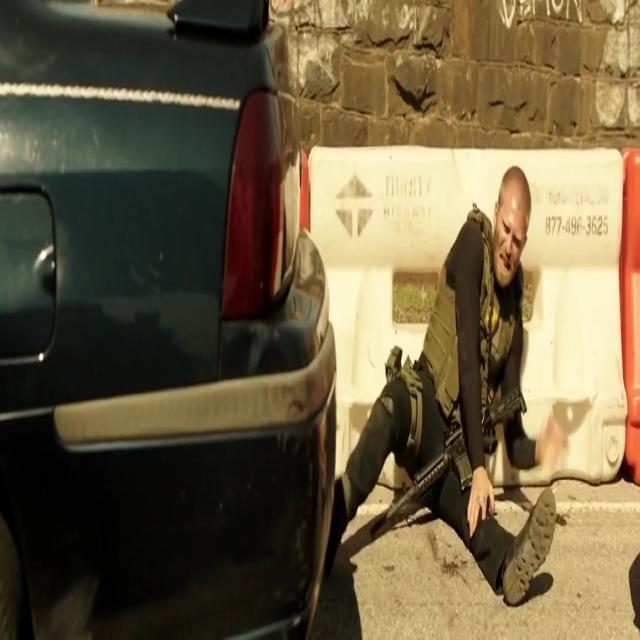Weapon: (386, 393, 540, 554)
